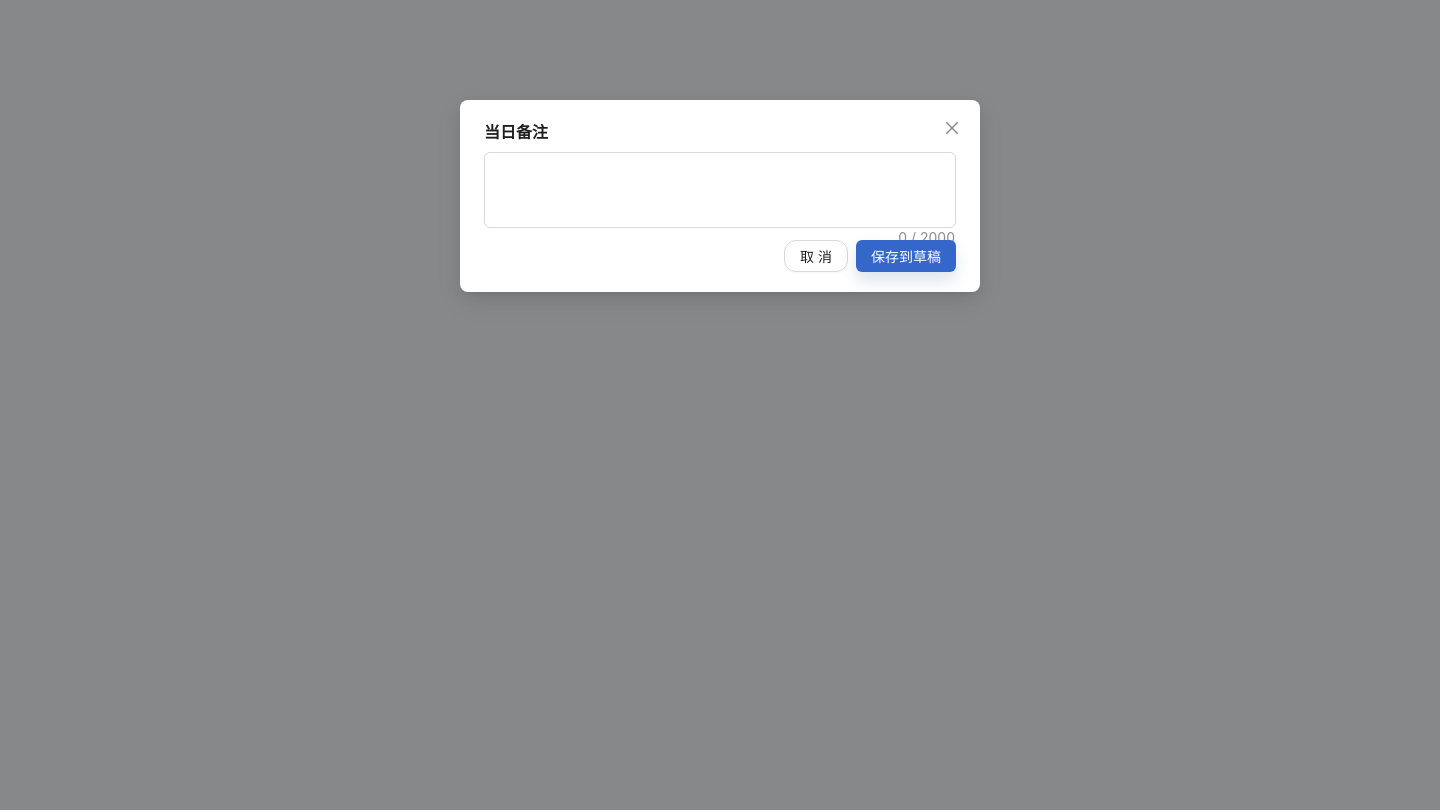
TripWorkspaceEditor › retains note text when saving fails
Type "下午再出发" into the text box named "当日备注" at [720, 190], box [485,153,955,227]
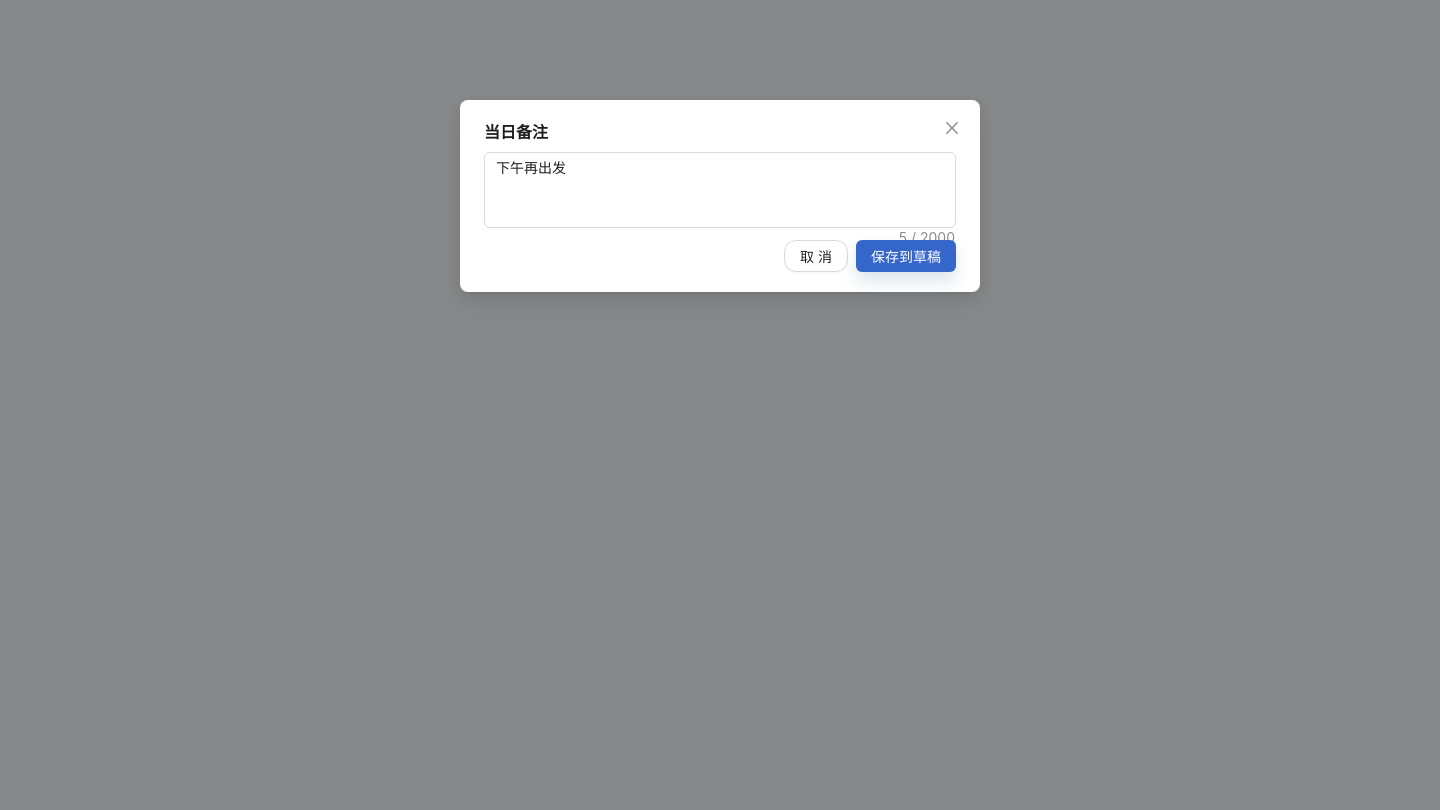
Click the button "保存到草稿" at [906, 256], box [856,240,956,272]
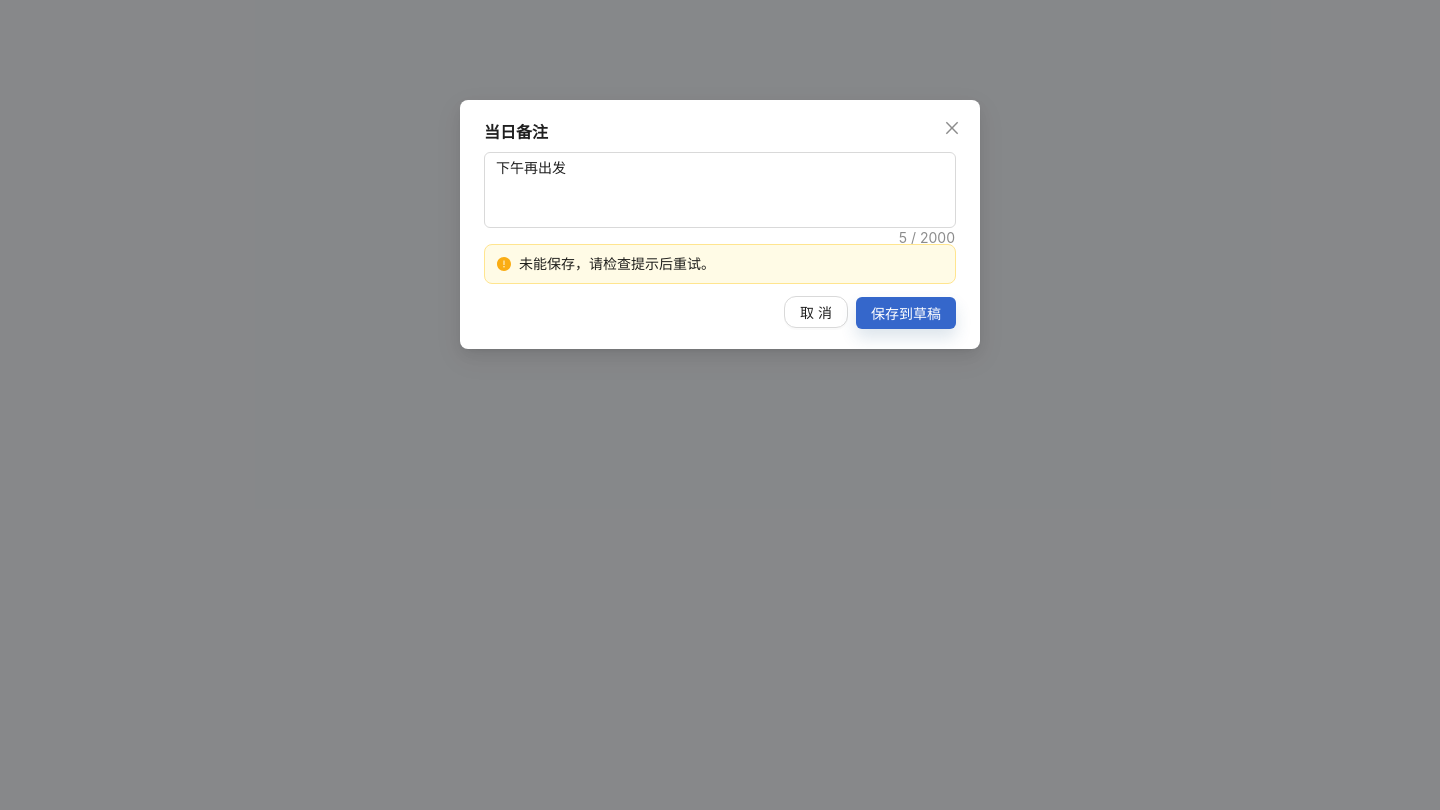
expect the text "未能保存，请检查提示后重试。" is shown: met, box [519,255,715,272]
